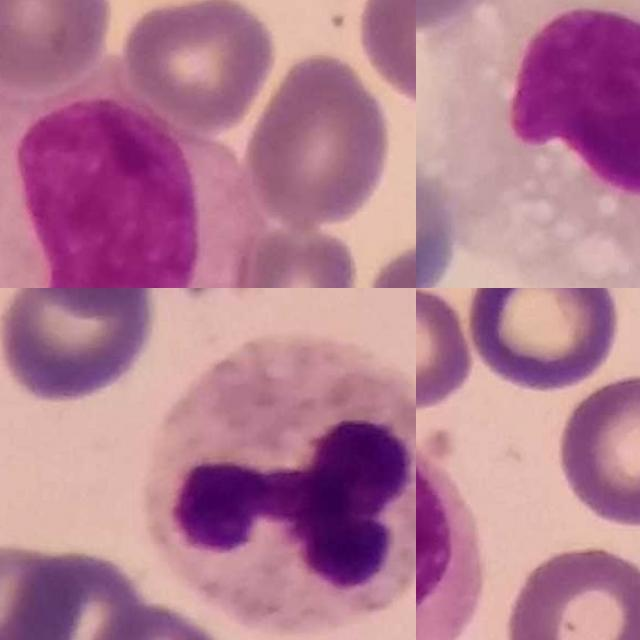Monocyte: (428, 0, 640, 288), (0, 71, 254, 288), (416, 401, 484, 640)
Neutrophil: (145, 339, 416, 635)
